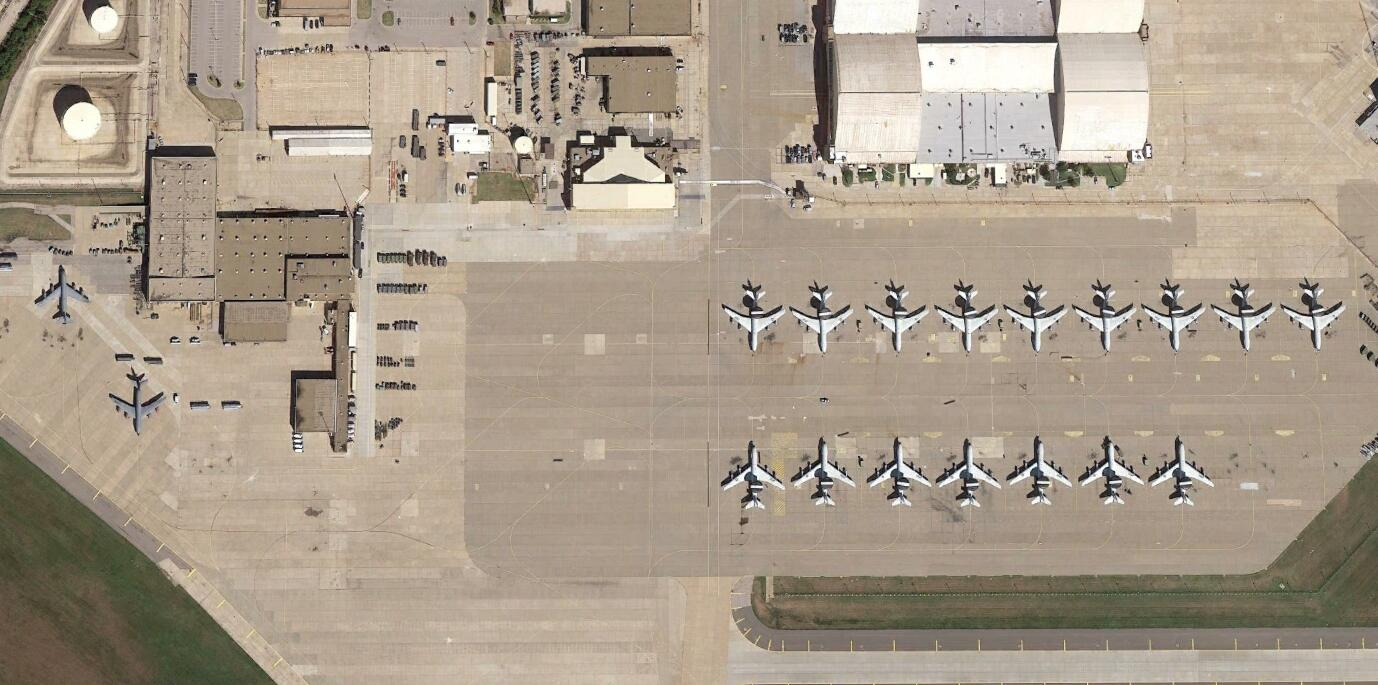A14: (109, 372, 168, 438), (34, 265, 91, 325)
A7: (791, 435, 857, 509), (1006, 434, 1072, 504), (937, 440, 1003, 509), (720, 287, 787, 354), (1282, 285, 1350, 351), (720, 443, 785, 512), (865, 285, 928, 356), (790, 287, 854, 356), (868, 438, 932, 507), (1212, 285, 1278, 351), (1150, 440, 1216, 506), (935, 284, 998, 353), (1006, 285, 1069, 353), (1140, 287, 1206, 350), (1073, 284, 1135, 351), (1079, 440, 1144, 503)
